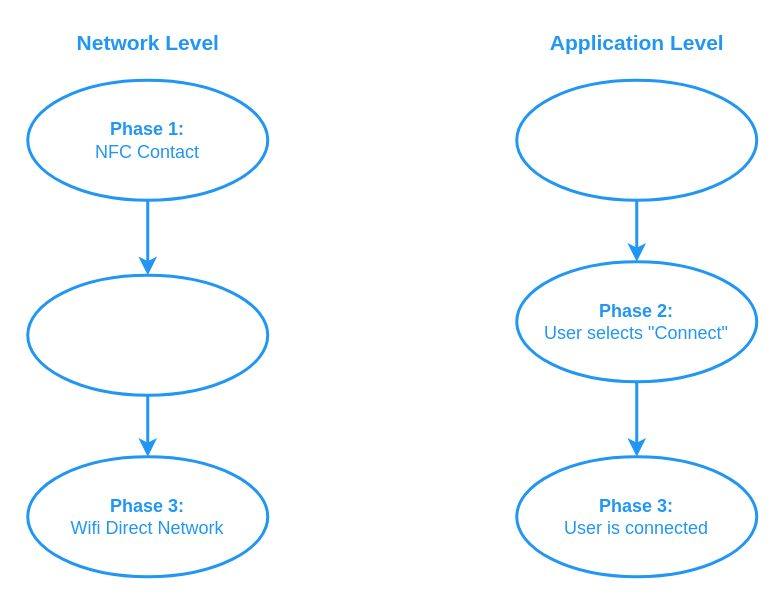
Image size: 783x603. Some labels were removed from this diagram. The shapes that lost their labels are listed below. From the top down, each one's centre as x and y in pixels, then its label:
At (636,139): "Phase 1: Friend Request".
At (147,334): "Phase 2: Wifi Direct Handshake".
